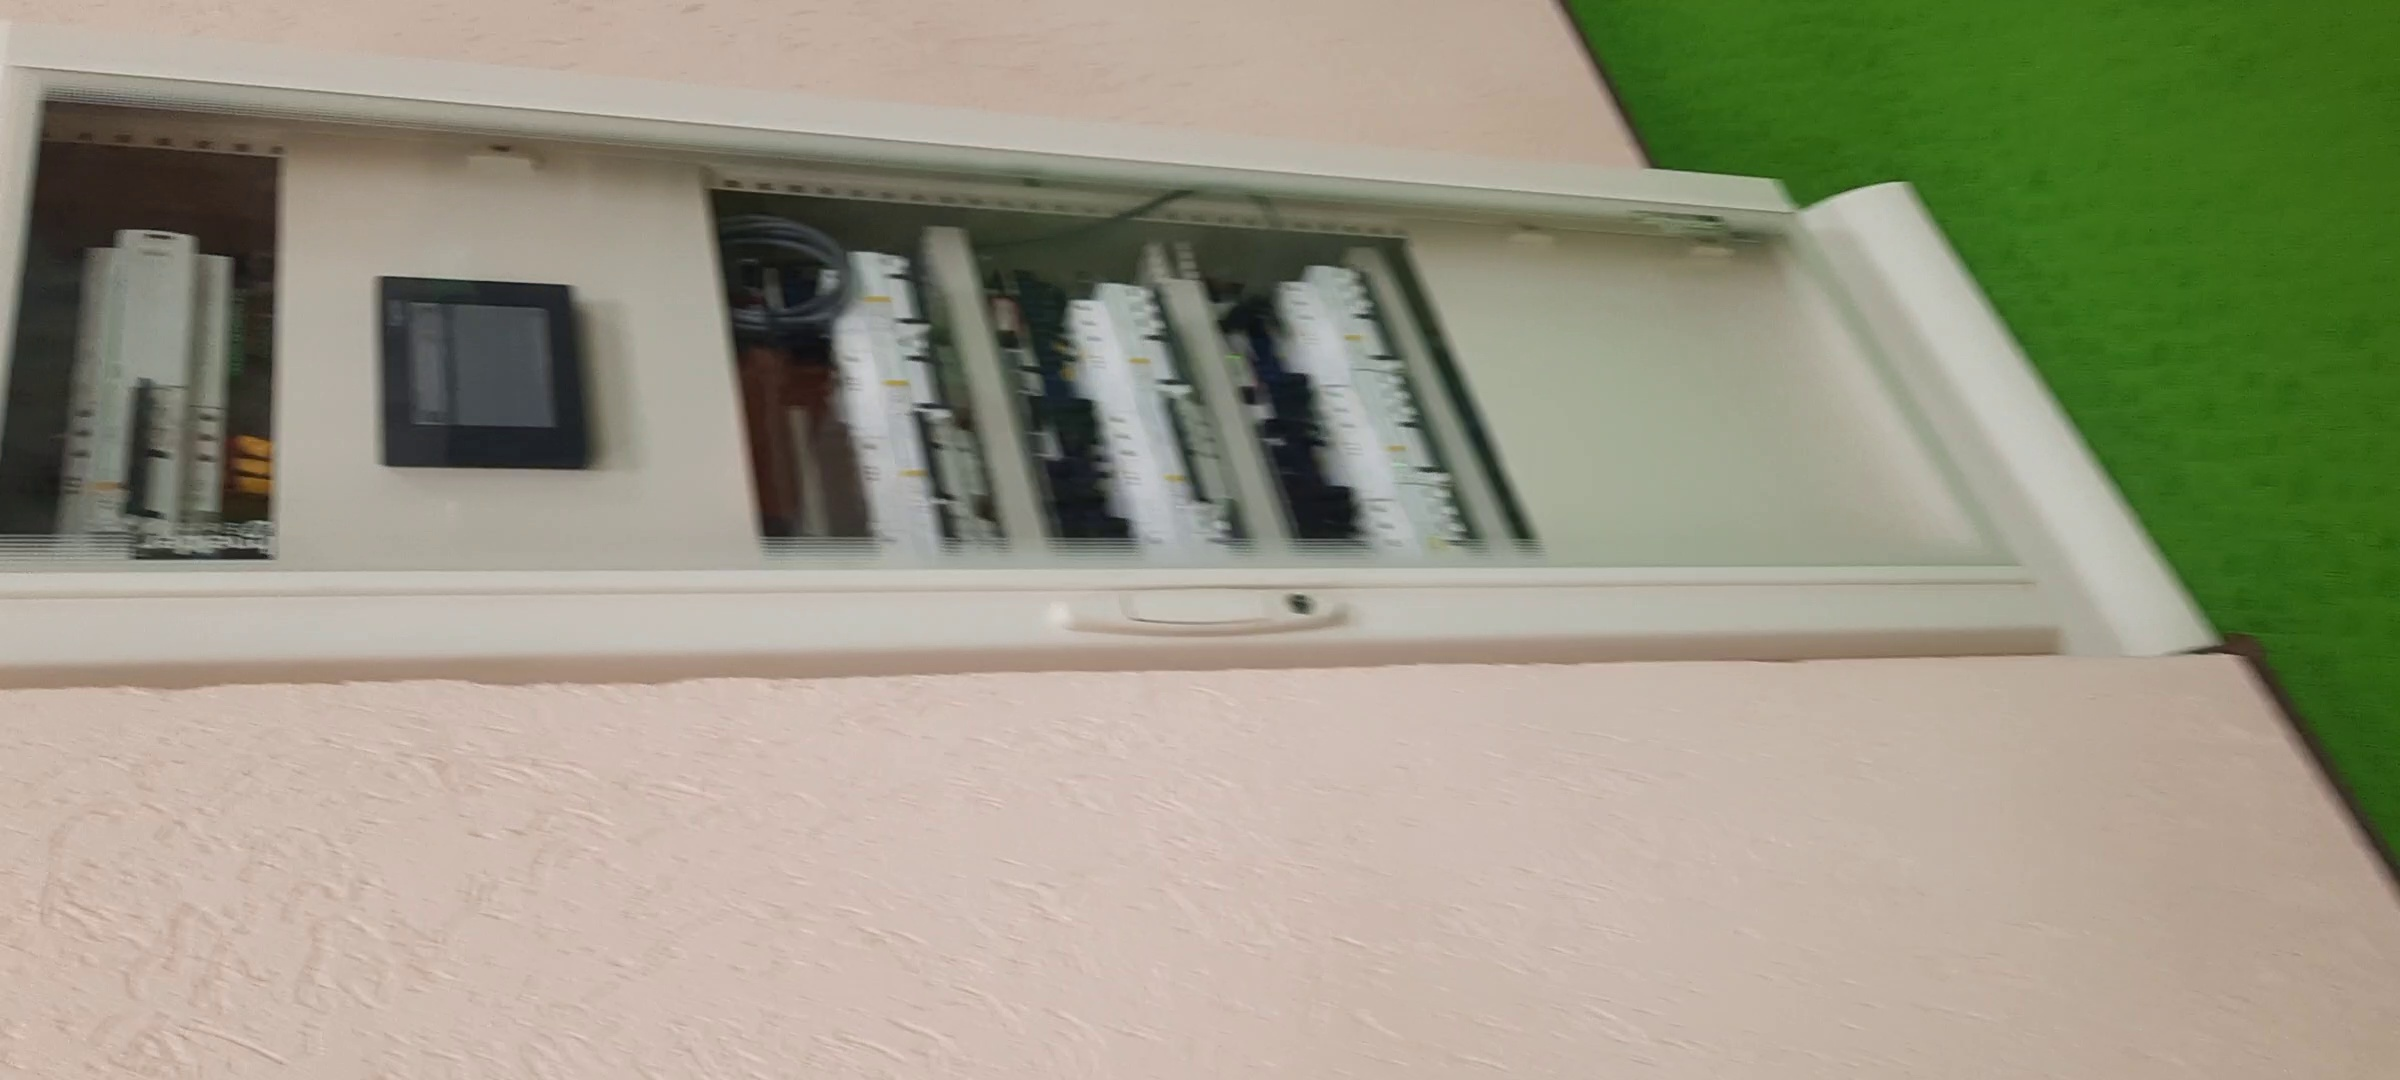smart_stand: (2, 60, 2209, 678)
